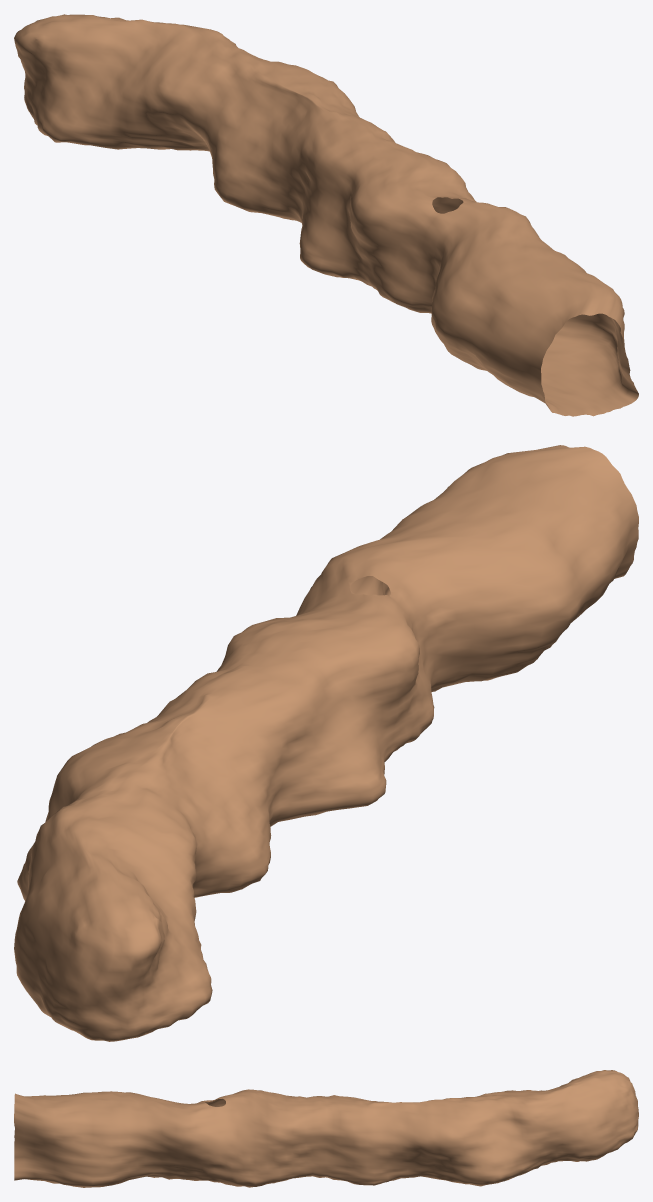
The model's file is CaveUpdated 3.fbx.
The picture shows the model from 3 angles, top to bottom: view 1: azimuth 30°, elevation 25°; view 2: azimuth 150°, elevation 25°; view 3: azimuth 270°, elevation 25°; orthographic projection. The views are drawn at different scales.
Parts seen in each view (by area): view 1: Cube; view 2: Cube; view 3: Cube.
Part boxes in pixels (x1,y1,x2,y2): Cube: (14,14,638,416); Cube: (14,445,638,1041); Cube: (14,1070,638,1187).
Size of the model in its own units: 1075 by 515 by 4058.
